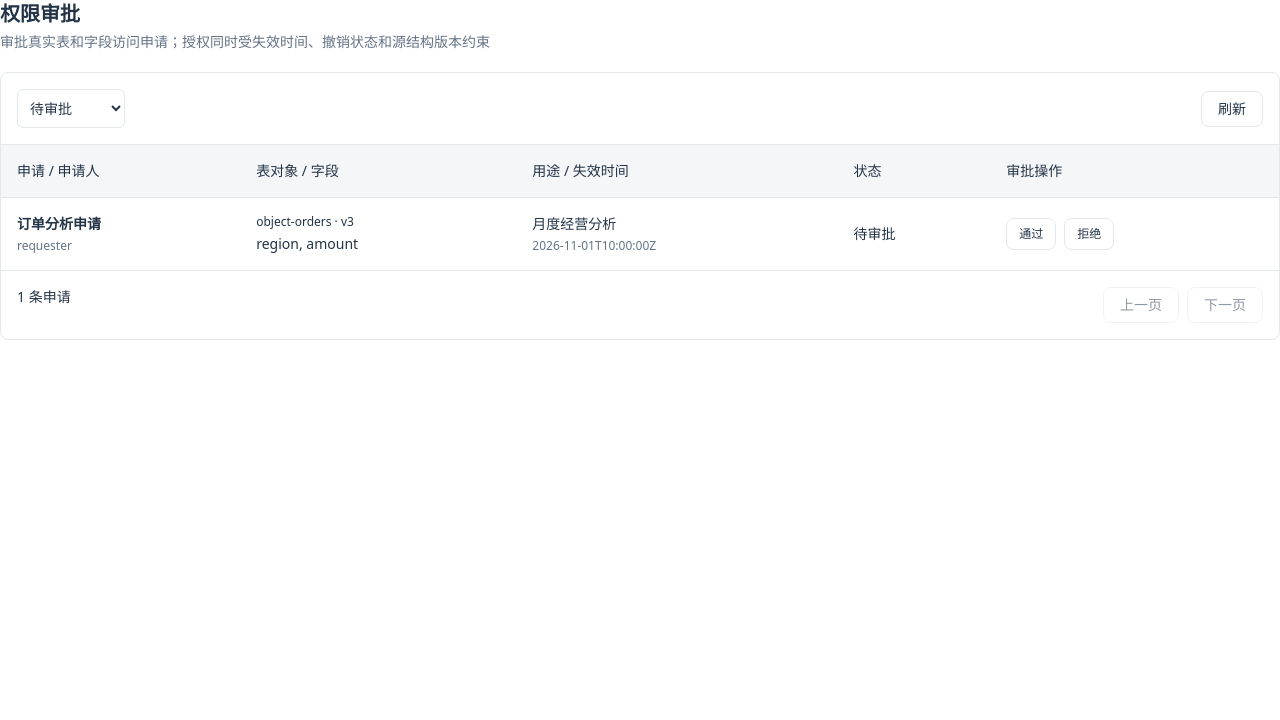
Real data access interactions › keeps a stable decision receipt key after a failed request and submits only controlled fields
Click the button "通过".
click(1031, 234)  # box [1006,218,1056,250]
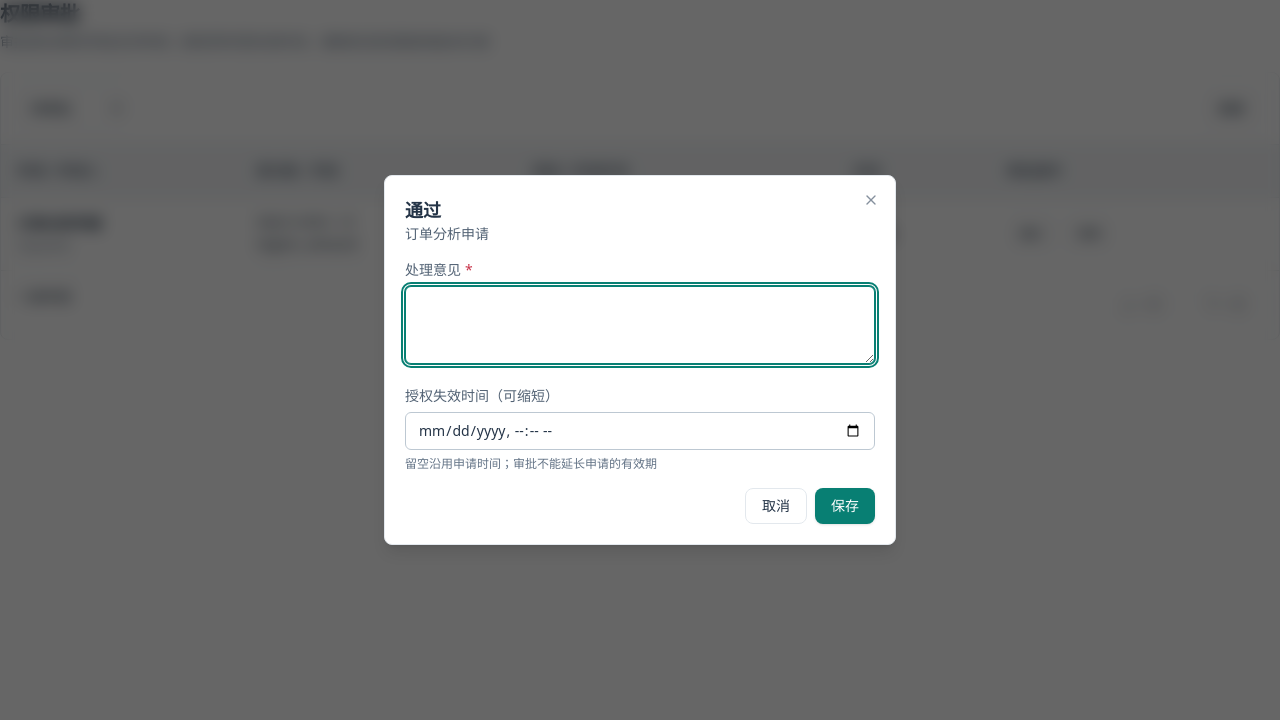
Type "同意本次月度分析" into the text box.
click(640, 325); type("同意本次月度分析")  # box [405,286,875,364]
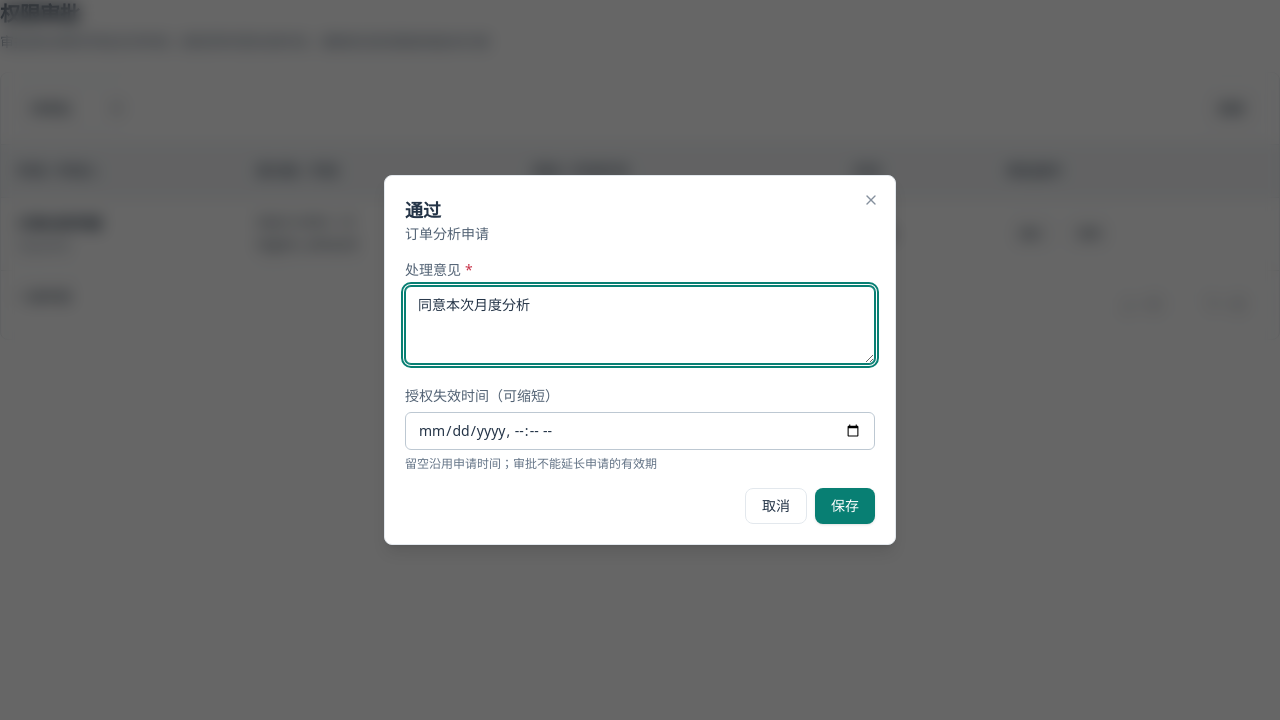
Click the button "保存".
click(845, 506)  # box [815,488,875,524]
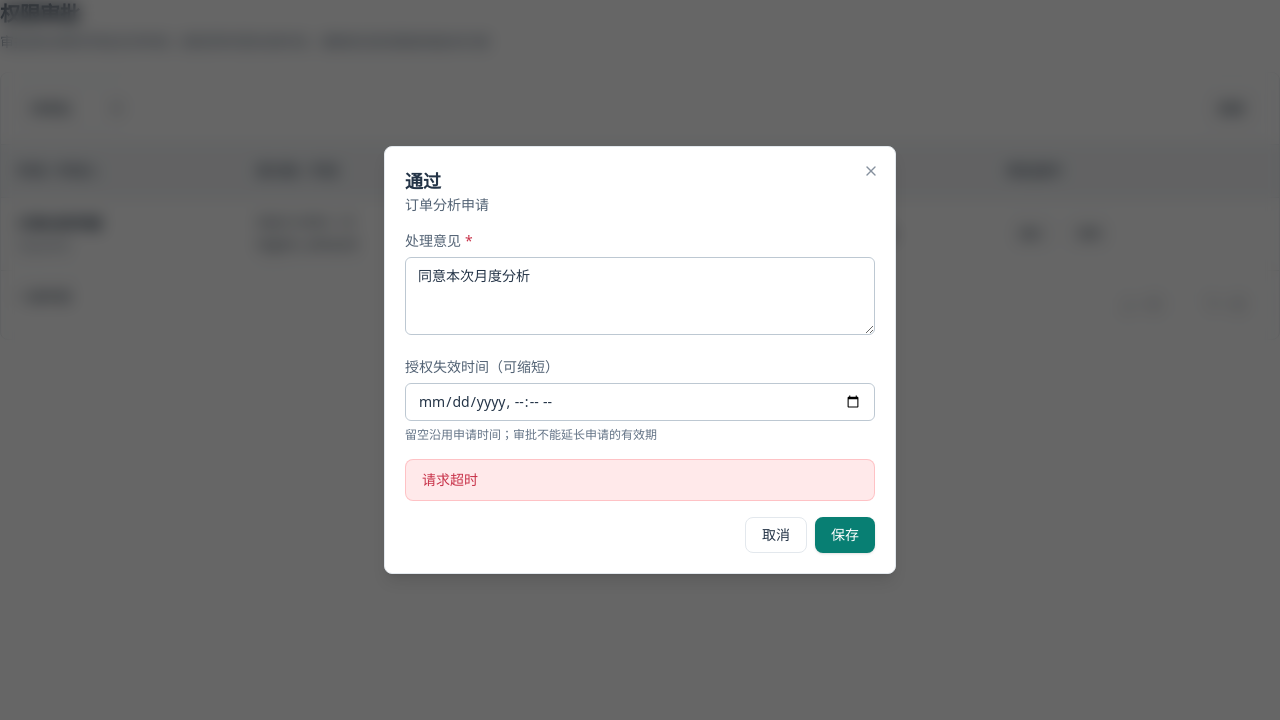
Now the text "请求超时" is shown, box [422,470,478,489]
Click the button "保存".
click(845, 535)  # box [815,517,875,553]
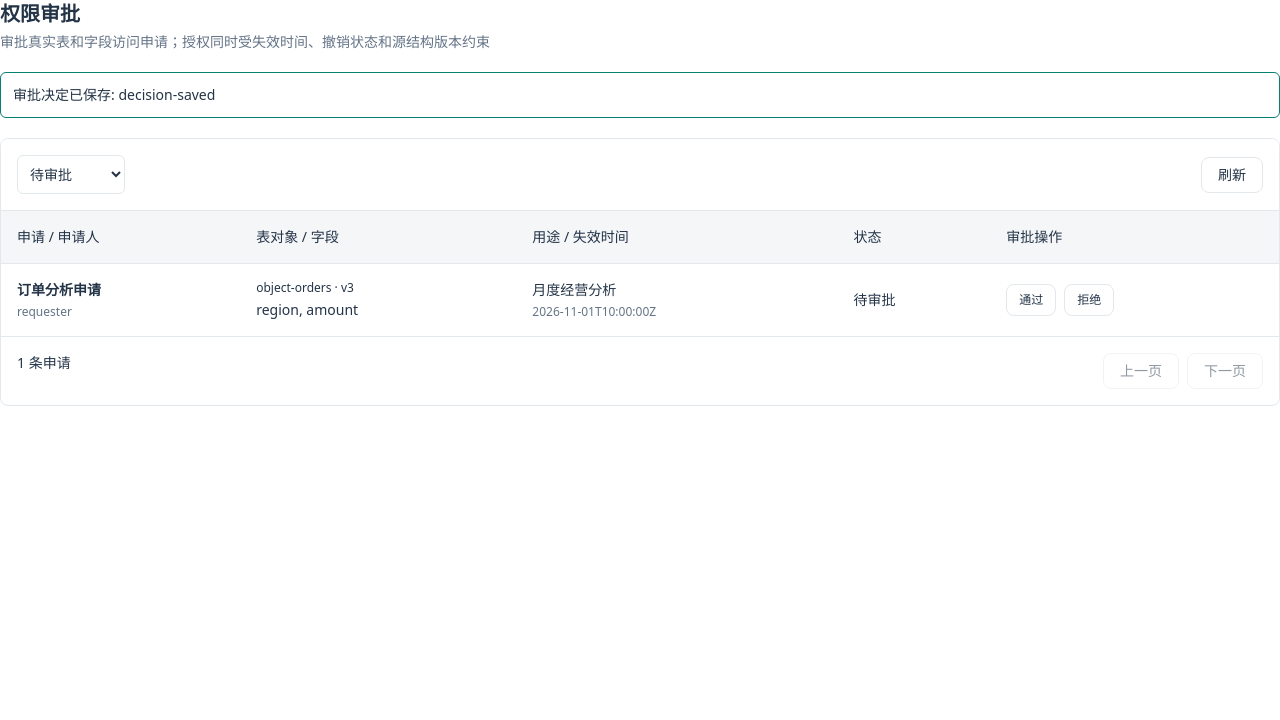
Now the text "审批决定已保存: decision-saved" is shown, box [0,72,1279,118]
